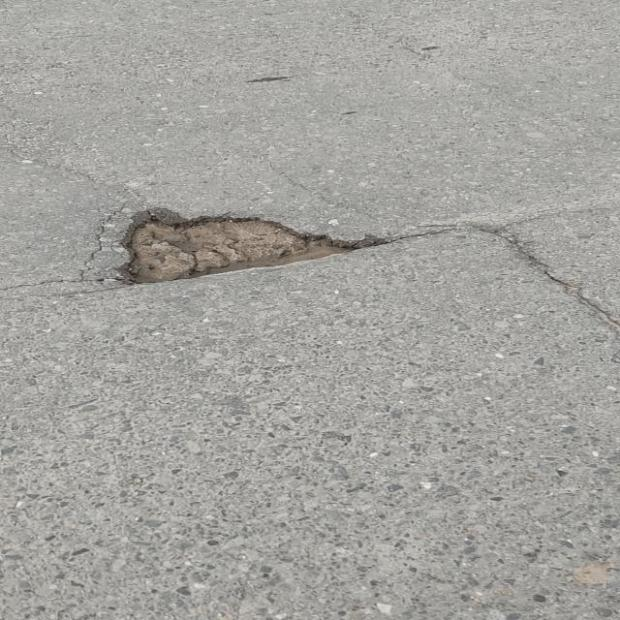lubang: (123, 209, 384, 283)
